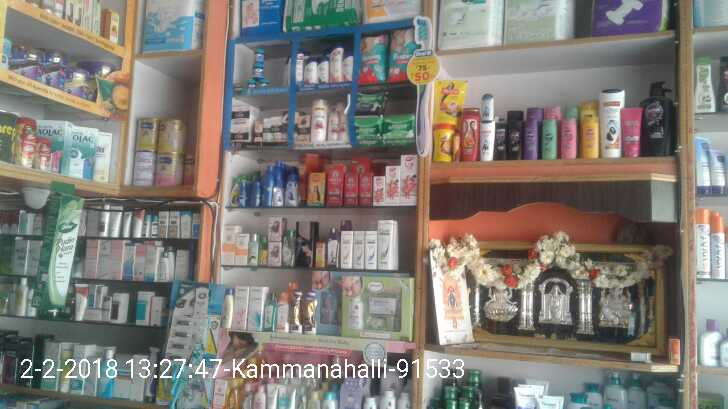beauty: (311, 97, 326, 140), (328, 47, 342, 84), (229, 106, 252, 126), (337, 106, 349, 143), (230, 125, 252, 144), (296, 113, 310, 142), (341, 54, 354, 85), (327, 107, 338, 143), (272, 113, 283, 144), (304, 56, 317, 82), (317, 55, 329, 82), (252, 117, 263, 142), (263, 117, 273, 143)
pharmacy: (359, 33, 388, 82), (387, 33, 413, 81), (382, 113, 414, 139), (352, 89, 385, 114), (348, 117, 382, 141), (253, 48, 265, 65), (252, 63, 263, 79)
